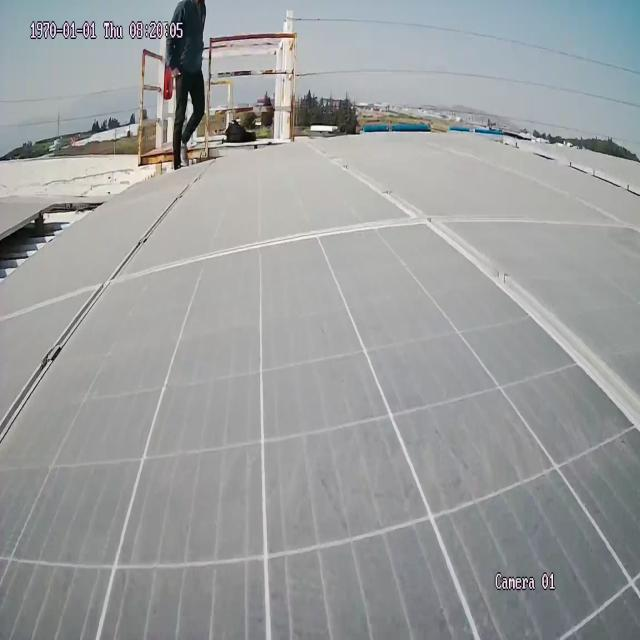interior panel: (306, 136, 640, 450), (0, 151, 224, 470)
outher panel: (0, 191, 116, 294)
